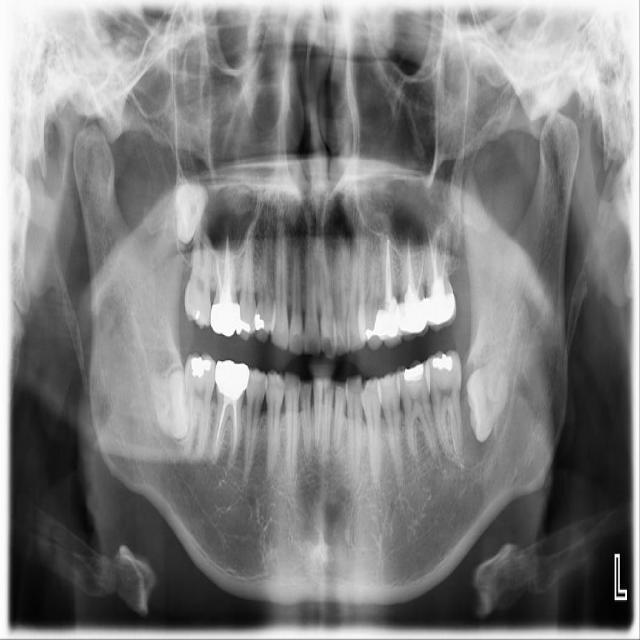Crown: (396, 297, 430, 343), (215, 359, 249, 400), (376, 297, 402, 348), (426, 291, 456, 334), (210, 301, 240, 338)
Filling: (431, 354, 454, 373), (190, 357, 211, 377), (404, 363, 425, 382), (236, 316, 252, 338), (252, 313, 269, 333), (364, 325, 378, 342), (191, 307, 204, 323)
Root Canal Treatment: (407, 237, 417, 293), (230, 408, 240, 460), (218, 403, 229, 445), (431, 231, 438, 279), (417, 252, 423, 290), (224, 234, 228, 282), (386, 241, 389, 304), (218, 248, 221, 288), (442, 232, 444, 273)
impacted tooth: (469, 357, 509, 440), (146, 371, 190, 437), (178, 184, 209, 243)
